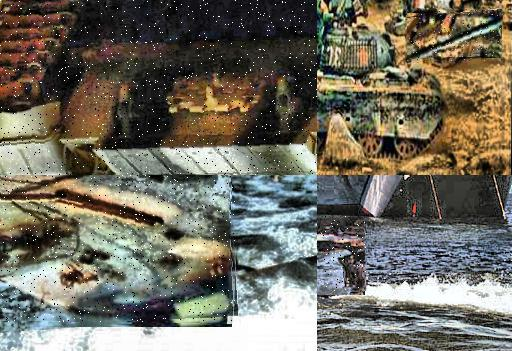tanks: (1, 1, 318, 176), (1, 176, 236, 323), (318, 20, 448, 159), (386, 1, 512, 42), (409, 10, 502, 62), (409, 22, 502, 67), (318, 217, 368, 292)
